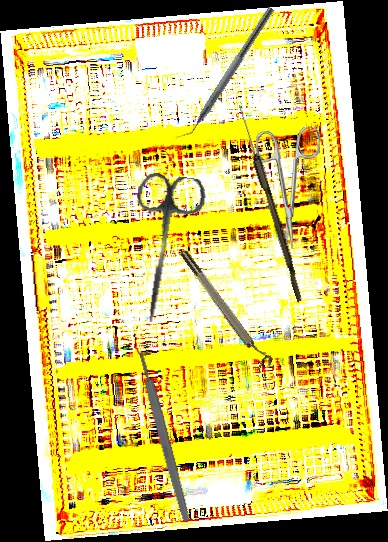Chopper: (174, 0, 275, 148)
Fixation Ring: (177, 244, 276, 374)
Iris Scissors: (120, 170, 208, 328), (253, 126, 321, 250)
Scalpel Handle: (136, 351, 192, 522)
Surgical Spoon: (234, 103, 307, 303)
